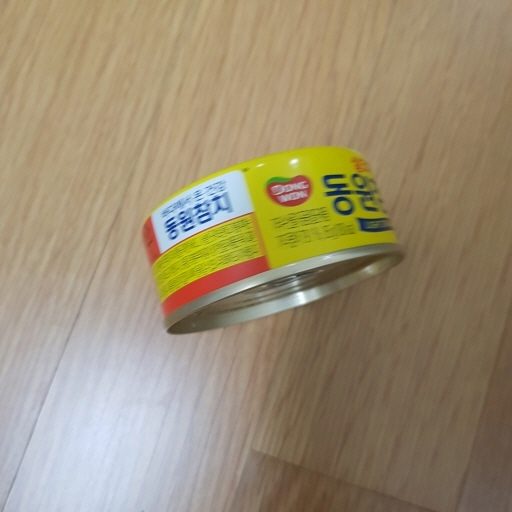Metal_1: (139, 144, 403, 339)
